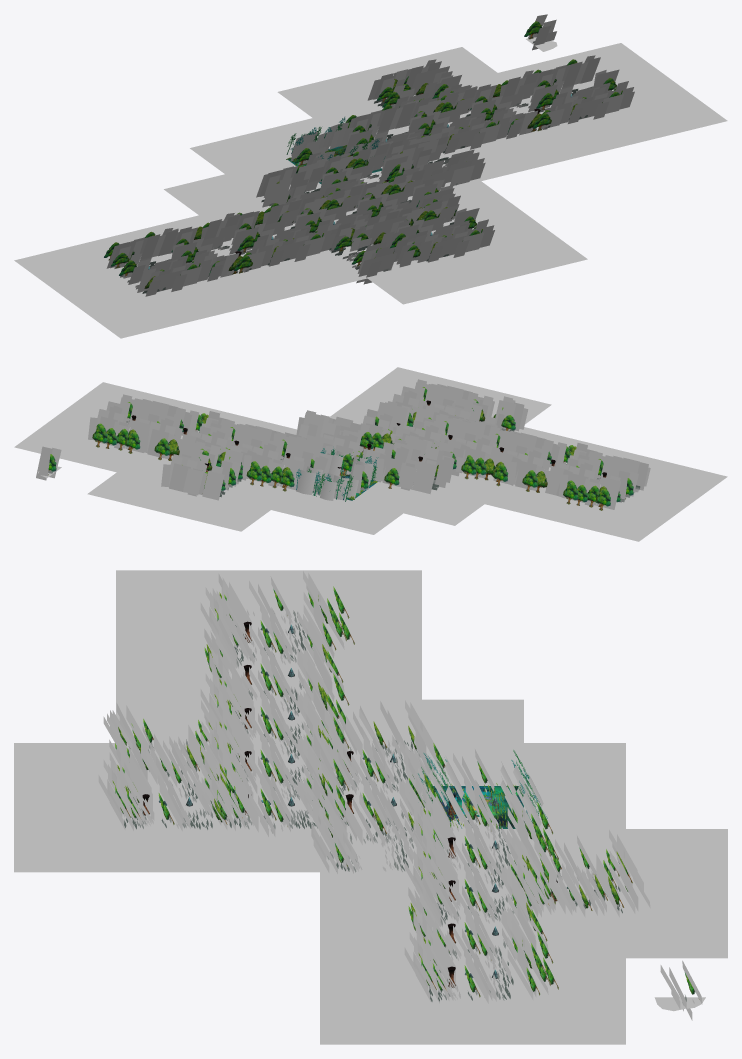
3 views of the same model, one above another, from view 1: azimuth 30°, elevation 25°; view 2: azimuth 150°, elevation 25°; view 3: azimuth 270°, elevation 25° (orthographic). The views are drawn at different scales.
Parts seen in each view (by area): view 1: FieldArea_06_001_Chikurin (×16), FieldArea_06_001_ground2 (30), FieldArea_06_001_ground2 (11), FieldArea_06_001_ground2 (15), FieldArea_06_001_ground2 (6), FieldArea_06_001_ground2 (20), FieldArea_06_001_ground2 (22), FieldArea_06_001_ground2 (27), FieldArea_06_001_ground2 (31), FieldArea_06_001_ground2 (32), FieldArea_06_001_ground2 (4), FieldArea_06_001_ground2 (7) (+19 smaller); view 2: FieldArea_06_001_Chikurin (×16), FieldArea_06_001_tree_2 (×4), FieldArea_06_001_ground2 (32), FieldArea_06_001_ground2 (15), FieldArea_06_001_ground2 (20), FieldArea_06_001_ground2 (22), FieldArea_06_001_ground2 (27), FieldArea_06_001_ground2 (16), FieldDungeon_06_001_Door_Right_001_Chikurin (×4), FieldArea_06_001_ground2 (26), FieldArea_06_001_ground2 (13), FieldArea_06_001_ground2 (2) (+24 smaller); view 3: FieldArea_06_001_Chikurin (×16), FieldArea_06_001_ground2 (×9), FieldArea_06_001_ground2 (2), FieldArea_06_001_ground2 (4), FieldArea_06_001_ground2 (26), FieldArea_06_001_ground2 (30), FieldArea_06_001_ground2 (21), FieldArea_06_001_ground2 (1), FieldArea_06_001_ground2 (20), FieldArea_06_001_ground2 (27), FieldArea_06_001_ground2 (22), FieldArea_06_001_ground2 (7) (+24 smaller).
Boxes of the visible parts, bbox=[...] form: FieldArea_06_001_Chikurin (×16): bbox=[106, 55, 634, 296]; FieldArea_06_001_ground2 (30): bbox=[491, 233, 587, 274]; FieldArea_06_001_ground2 (11): bbox=[368, 263, 464, 304]; FieldArea_06_001_ground2 (15): bbox=[14, 245, 110, 286]; FieldArea_06_001_ground2 (6): bbox=[507, 125, 604, 165]; FieldArea_06_001_ground2 (20): bbox=[164, 174, 259, 215]; FieldArea_06_001_ground2 (22): bbox=[190, 133, 285, 173]; FieldArea_06_001_ground2 (27): bbox=[277, 77, 373, 117]; FieldArea_06_001_ground2 (31): bbox=[209, 267, 305, 308]; FieldArea_06_001_ground2 (32): bbox=[85, 297, 181, 338]; FieldArea_06_001_ground2 (4): bbox=[631, 95, 727, 135]; FieldArea_06_001_ground2 (7): bbox=[569, 110, 665, 150]; FieldArea_06_001_Chikurin (×16): bbox=[88, 379, 650, 509]; FieldArea_06_001_tree_2 (×4): bbox=[92, 423, 620, 510]; FieldArea_06_001_ground2 (32): bbox=[647, 464, 727, 498]; FieldArea_06_001_ground2 (15): bbox=[588, 507, 668, 541]; FieldArea_06_001_ground2 (20): bbox=[404, 491, 484, 525]; FieldArea_06_001_ground2 (22): bbox=[323, 501, 402, 534]; FieldArea_06_001_ground2 (27): bbox=[190, 497, 270, 531]; FieldArea_06_001_ground2 (16): bbox=[617, 486, 697, 519]; FieldDungeon_06_001_Door_Right_001_Chikurin (×4): bbox=[36, 446, 638, 499]; FieldArea_06_001_ground2 (26): bbox=[87, 472, 164, 506]; FieldArea_06_001_ground2 (13): bbox=[485, 484, 561, 516]; FieldArea_06_001_ground2 (2): bbox=[14, 425, 91, 459]; FieldArea_06_001_Chikurin (×16): bbox=[98, 571, 650, 1003]; FieldArea_06_001_ground2 (×9): bbox=[116, 613, 625, 1001]; FieldArea_06_001_ground2 (2): bbox=[524, 1001, 625, 1044]; FieldArea_06_001_ground2 (4): bbox=[320, 1001, 421, 1044]; FieldArea_06_001_ground2 (26): bbox=[626, 915, 727, 958]; FieldArea_06_001_ground2 (30): bbox=[14, 829, 115, 872]; FieldArea_06_001_ground2 (21): bbox=[116, 829, 217, 872]; FieldArea_06_001_ground2 (1): bbox=[422, 1001, 523, 1044]; FieldArea_06_001_ground2 (20): bbox=[422, 699, 523, 742]; FieldArea_06_001_ground2 (27): bbox=[626, 829, 727, 872]; FieldArea_06_001_ground2 (22): bbox=[524, 743, 625, 785]; FieldArea_06_001_ground2 (7): bbox=[320, 958, 421, 1001].
Size of what is drawn, in the model's own units: 165 by 10.01 by 105.
